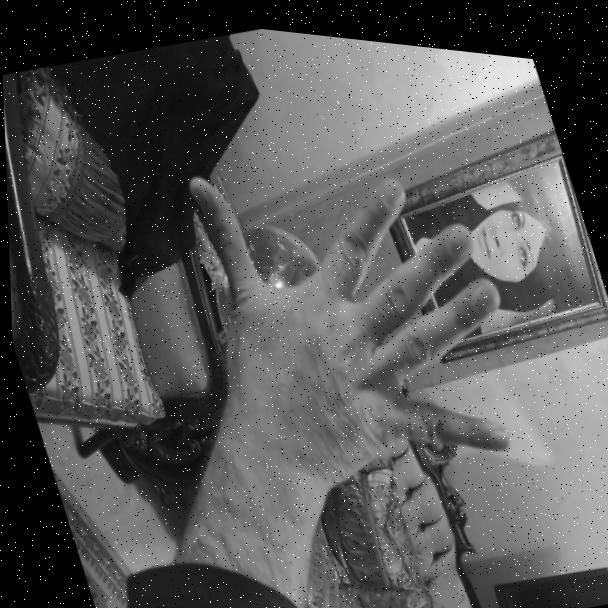five: (150, 86, 549, 545)
